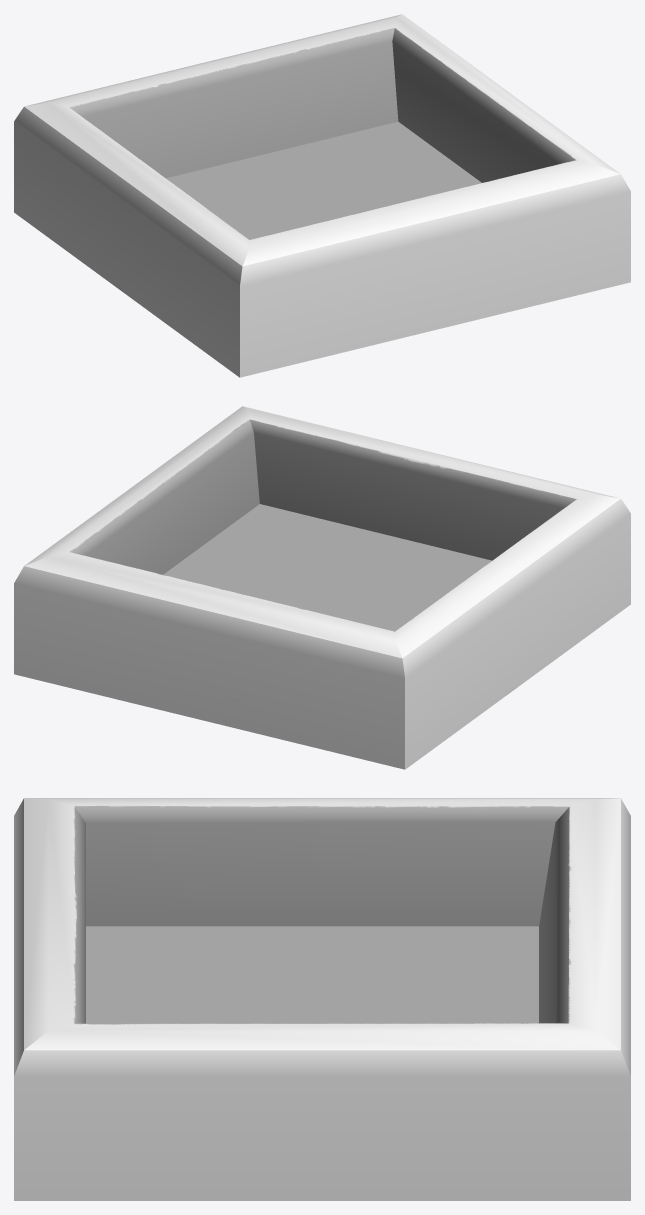
The model's file is Sink_Basin 1.fbx.
3 views of the same model, one above another, from view 1: azimuth 30°, elevation 25°; view 2: azimuth 150°, elevation 25°; view 3: azimuth 270°, elevation 25° (orthographic). The views are drawn at different scales.
Visible parts, largest first — view 1: polySurface2; view 2: polySurface2; view 3: polySurface2.
Boxes of the visible parts, x1,y1,x2,y2 form: polySurface2: (14,14,630,377); polySurface2: (14,406,630,769); polySurface2: (14,798,630,1200).
Bounding box in the file's own units: 8 × 2.22 × 8.
